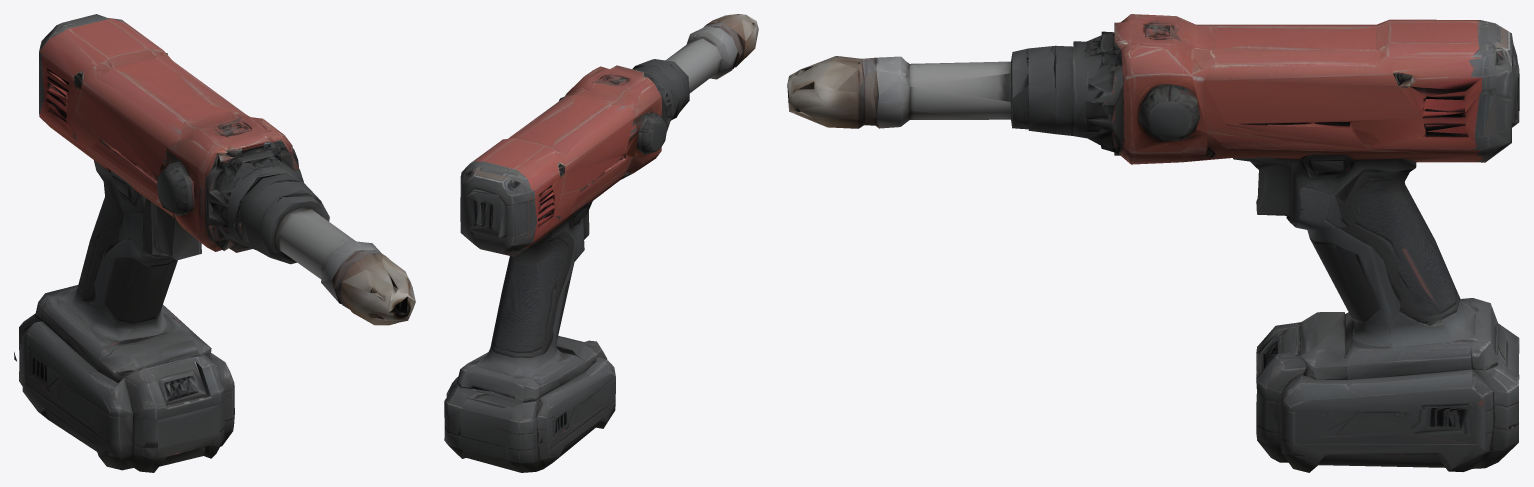
The model's file is Asset_05_LOD2.fbx.
The picture shows the model from 3 angles, left to right: view 1: azimuth 30°, elevation 25°; view 2: azimuth 150°, elevation 25°; view 3: azimuth 270°, elevation 25°; orthographic projection. The views are drawn at different scales.
Visible parts, largest first — view 1: Asset_05_LOD2; view 2: Asset_05_LOD2; view 3: Asset_05_LOD2.
Boxes of the visible parts, box(x1,y1,x2,y2) form: Asset_05_LOD2: box(14, 14, 415, 472); Asset_05_LOD2: box(444, 14, 758, 472); Asset_05_LOD2: box(787, 14, 1519, 472).
Size of the model in its own units: 0.0752 by 0.2121 by 0.3407.
1 material, 1 textured.
